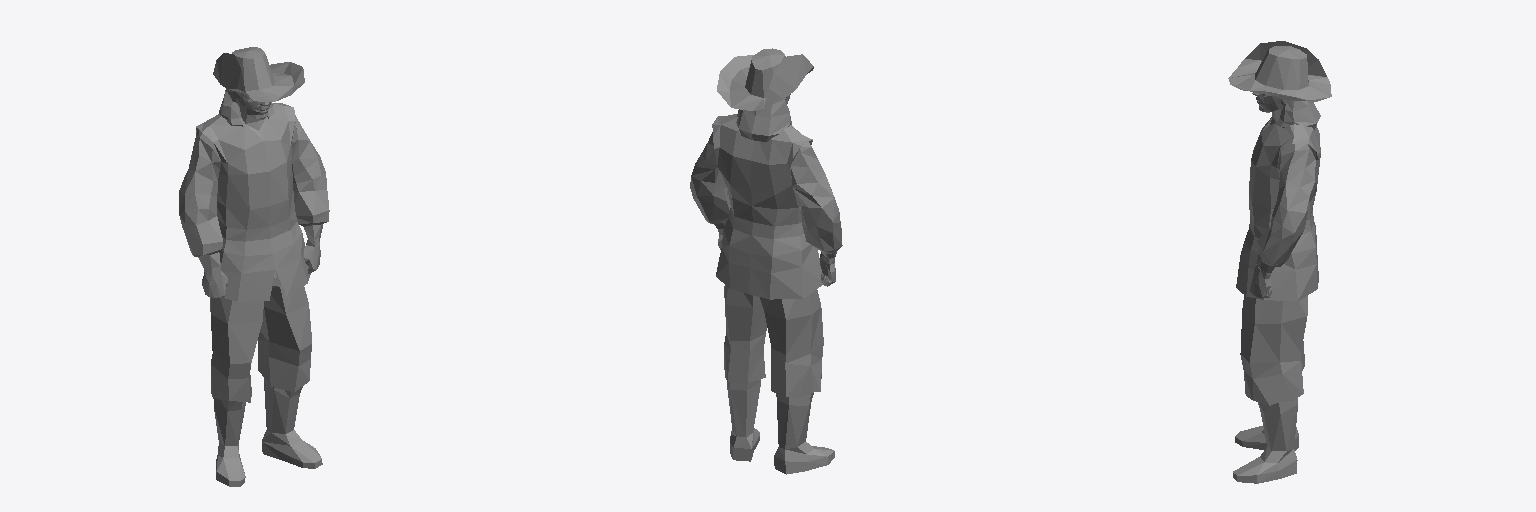
File: redcoat.obj
The picture shows the model from 3 angles: view 1: azimuth 30°, elevation 25°; view 2: azimuth 150°, elevation 25°; view 3: azimuth 270°, elevation 25°; orthographic projection.
Parts seen in each view (by area): view 1: objHand_right7; view 2: objHand_right7; view 3: objHand_right7.
Boxes of the visible parts, x1=… form: objHand_right7: x1=179, y1=47, x2=329, y2=486; objHand_right7: x1=690, y1=48, x2=842, y2=474; objHand_right7: x1=1228, y1=41, x2=1331, y2=483.
Bounding box in the file's own units: 6.64 × 18.25 × 4.15.